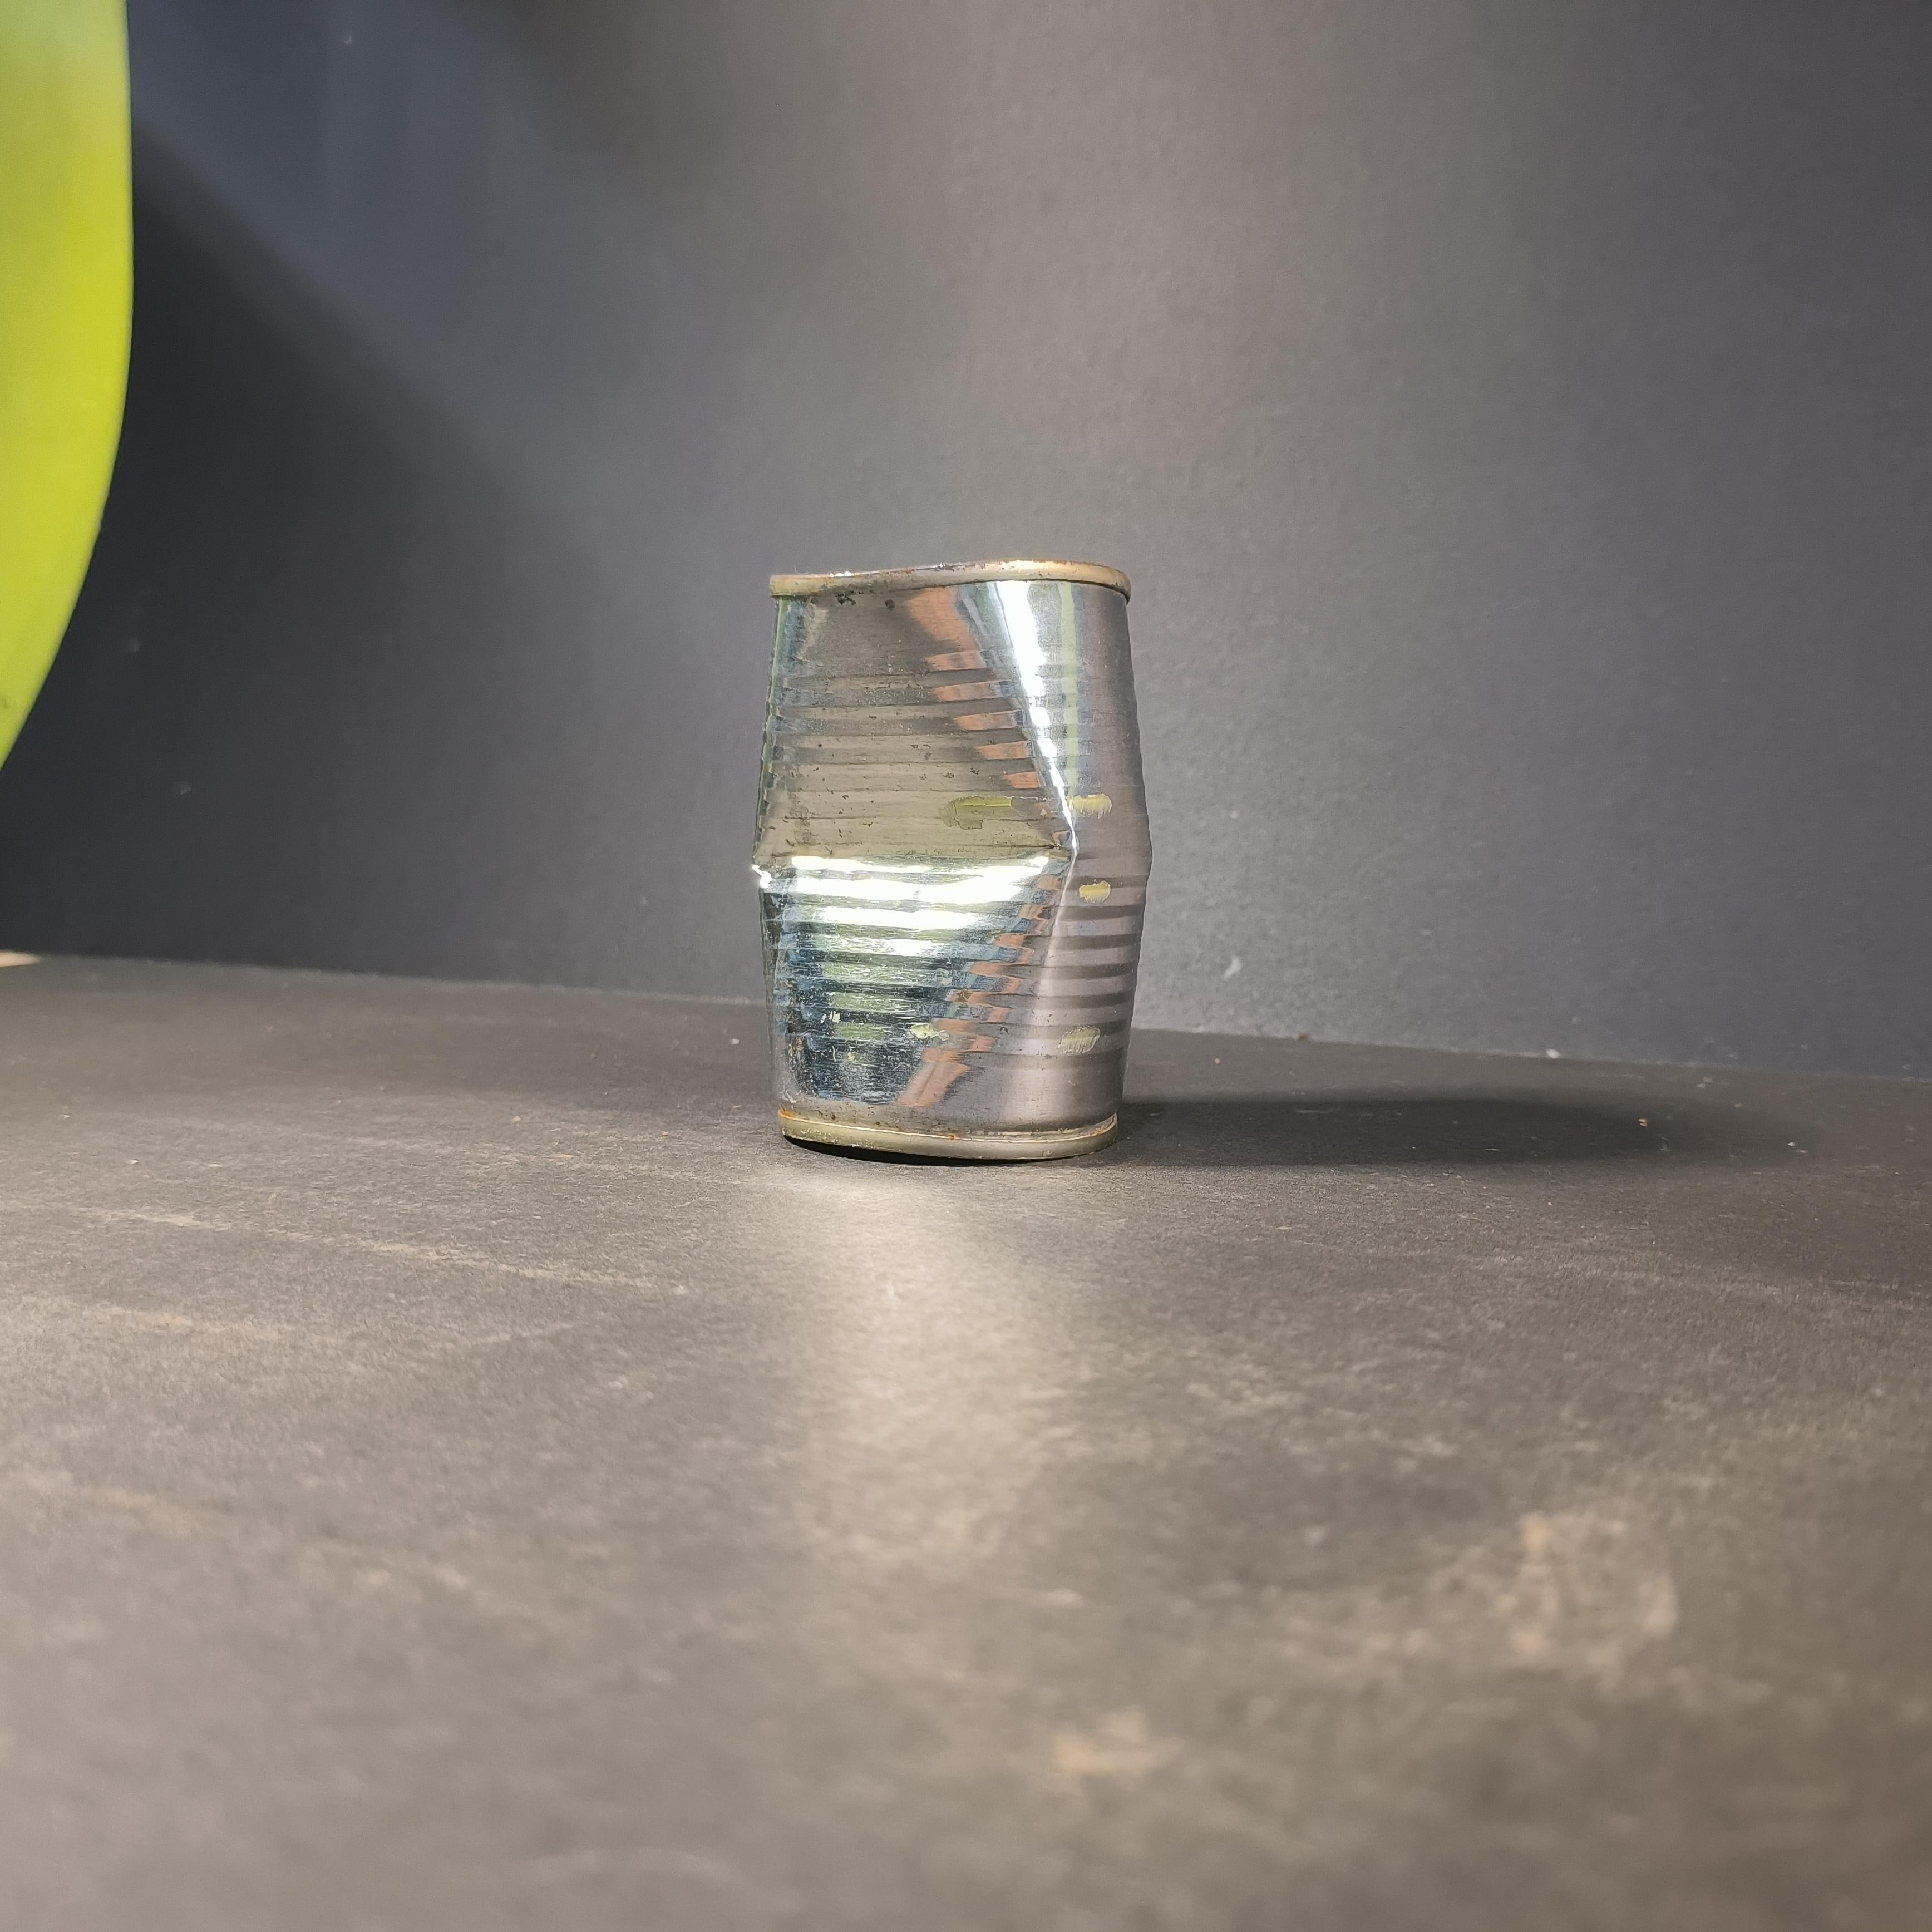Dented: (725, 550, 1168, 1182)
